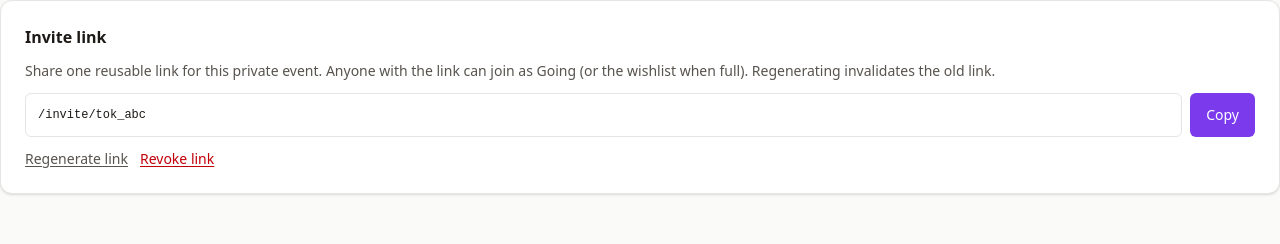
Test case: InviteLinkManager › asks for confirmation before regenerating
This screenshot has width=1280, height=244.
Click the button "Regenerate link" at (76, 159), box [25, 149, 128, 169]
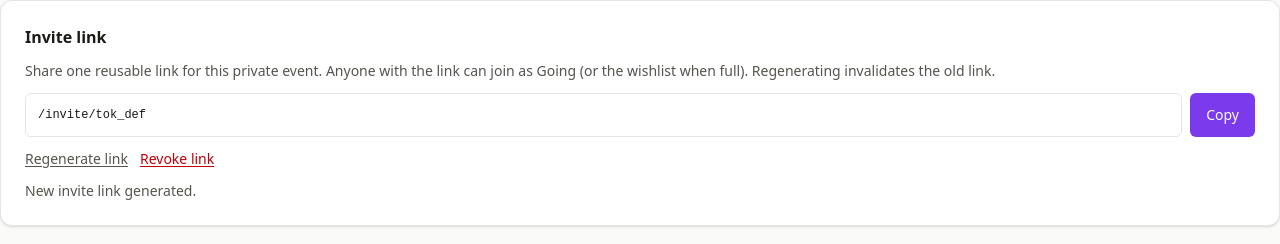
Expected: the field named "Invite link" holds "/invite/tok_def", [25, 93, 1182, 137]
